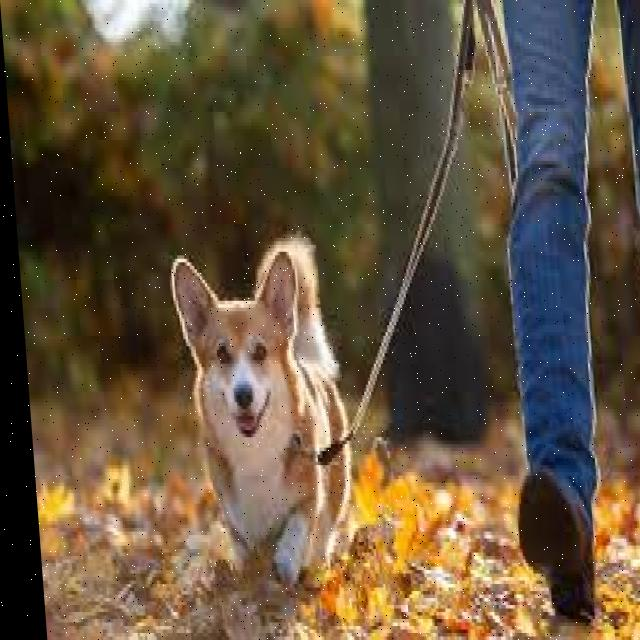CORGI: (133, 229, 373, 594)
